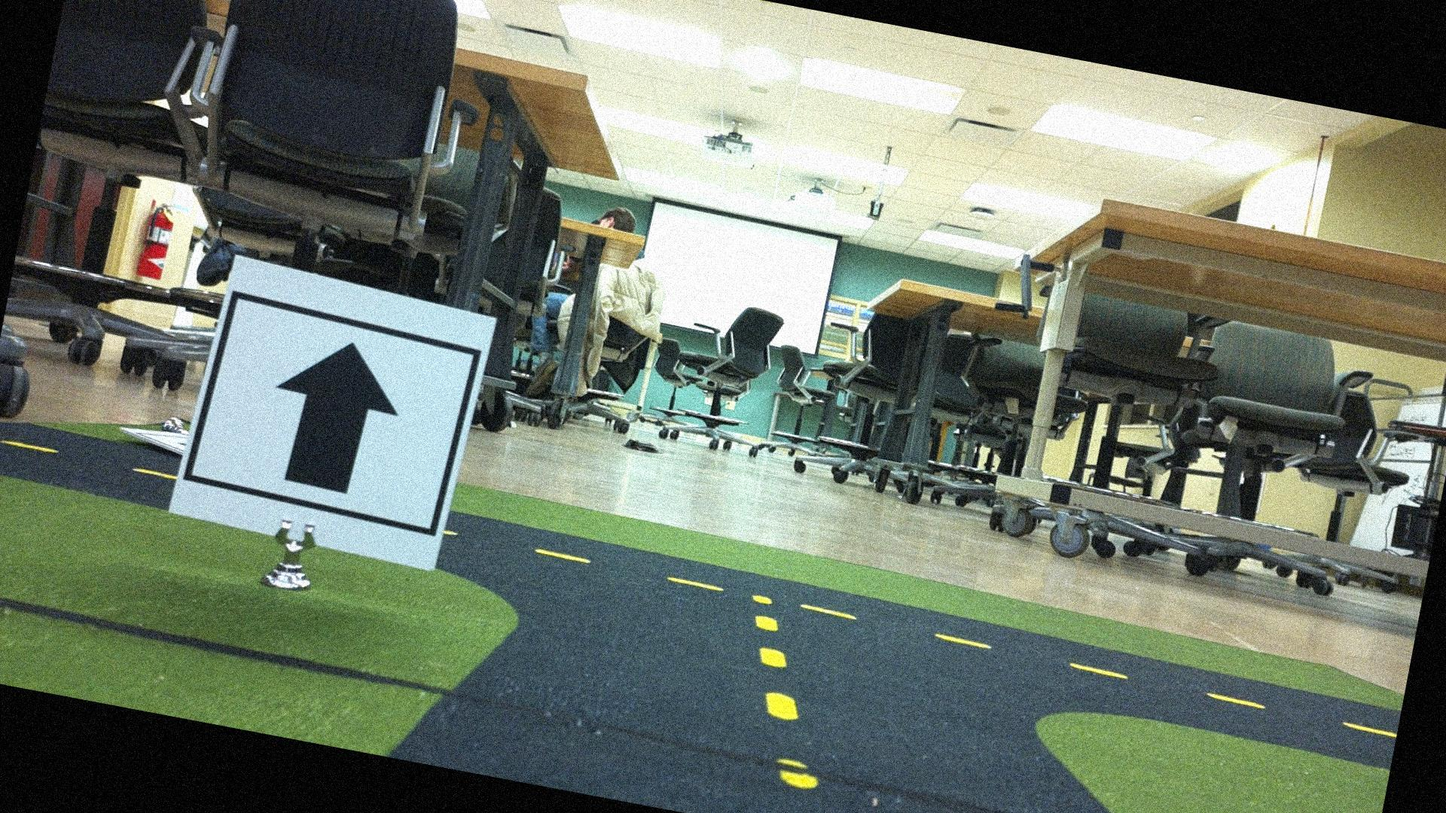gostraight: (191, 272, 483, 551)
yellowline: (935, 628, 1400, 738), (721, 593, 840, 790), (535, 545, 723, 595)
